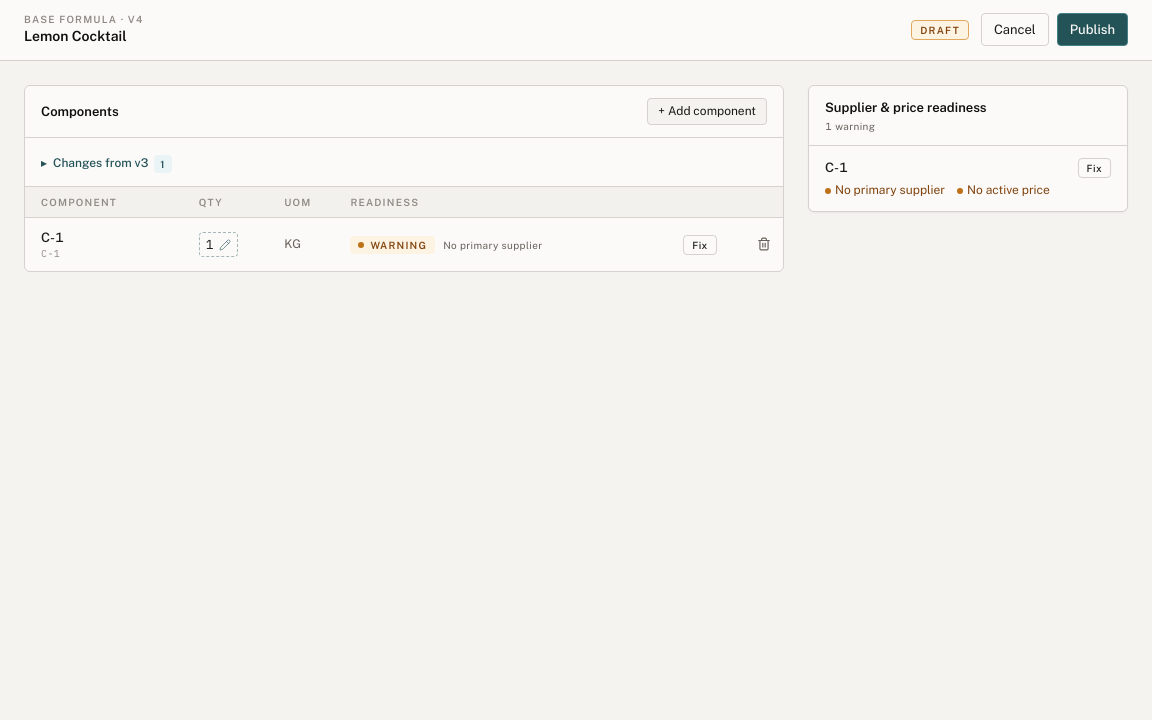
Test: BomDraftEditorPage — Add line drawer › clicking [Fix] on a panel row opens the real QuickFixDrawer
Click the button "Fix" in the row of "KG": (700, 245) [683, 235, 717, 255]
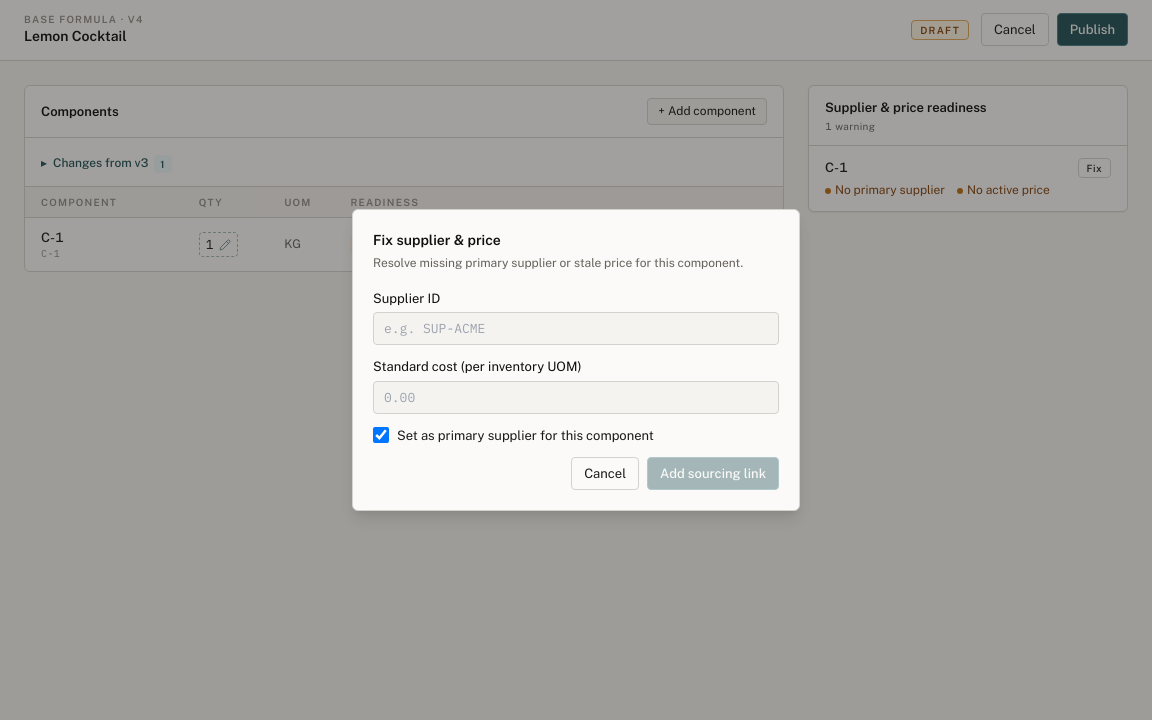
Check: the dialog named "Quick fix" is shown
